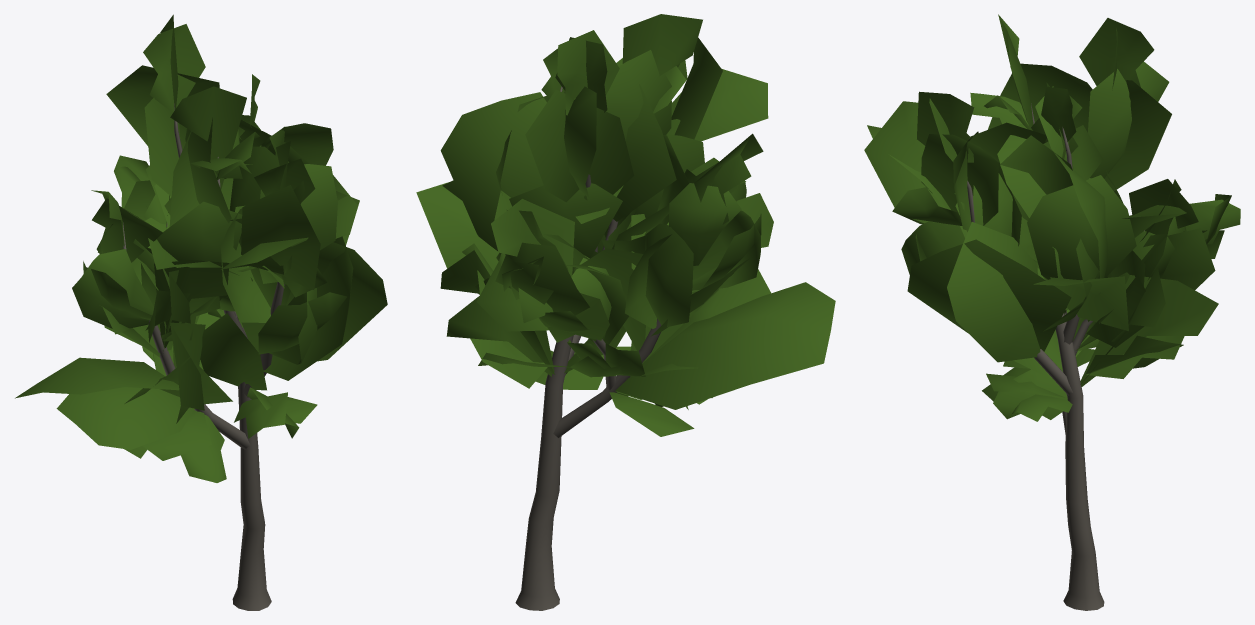
Rendered from tree0.glb.
The picture shows the model from 3 angles, left to right: view 1: azimuth 30°, elevation 25°; view 2: azimuth 150°, elevation 25°; view 3: azimuth 270°, elevation 25°; orthographic projection. The views are drawn at different scales.
Parts seen in each view (by area): view 1: M_Foliage_Trees_02; view 2: M_Foliage_Trees_02; view 3: M_Foliage_Trees_02.
Part boxes in pixels (bbox=[...]): M_Foliage_Trees_02: bbox=[15, 14, 387, 610]; M_Foliage_Trees_02: bbox=[416, 14, 835, 610]; M_Foliage_Trees_02: bbox=[864, 14, 1240, 610].
Size of the model in its own units: 7.71 by 11.72 by 7.21.
